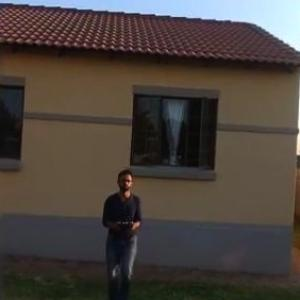follow: (97, 173, 150, 299)
